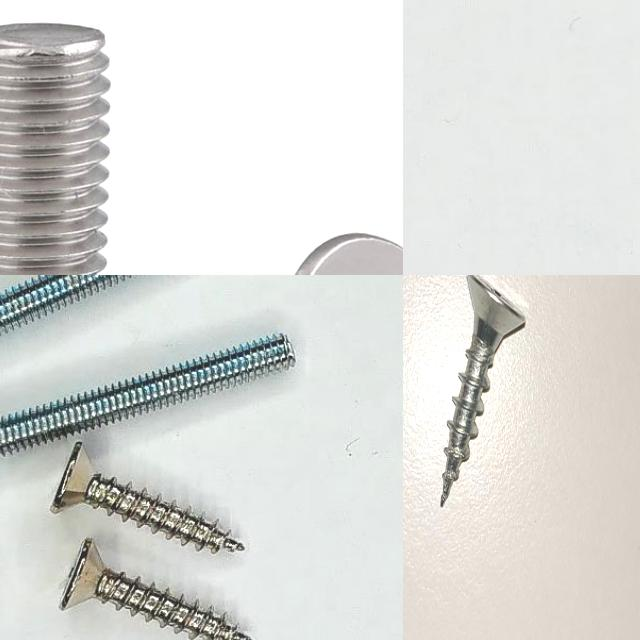Screw: (0, 335, 296, 456), (50, 443, 245, 553), (440, 275, 526, 506), (61, 540, 252, 640), (0, 275, 134, 333)
